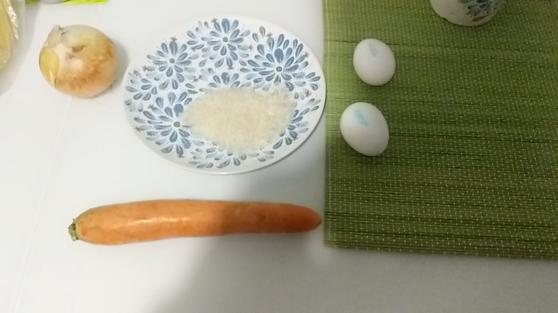carrot: (56, 193, 334, 248)
egg: (337, 99, 398, 158), (348, 35, 403, 89)
onion: (30, 18, 122, 97)
rice: (179, 78, 305, 156)
